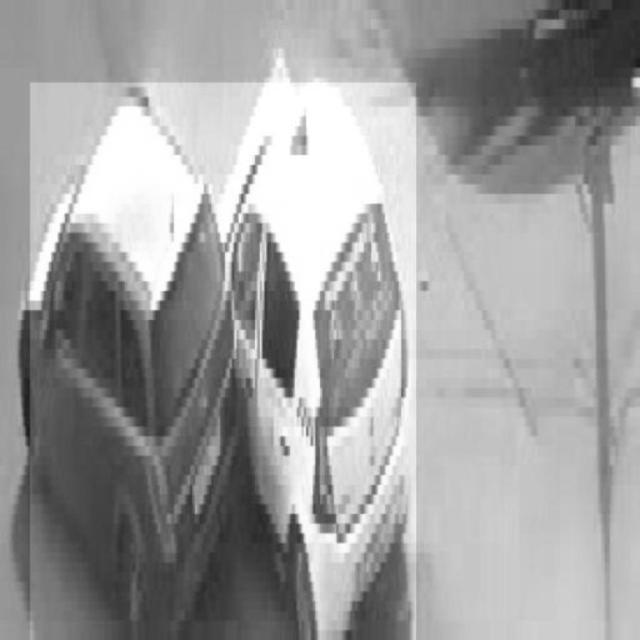accident: (31, 83, 417, 640)
